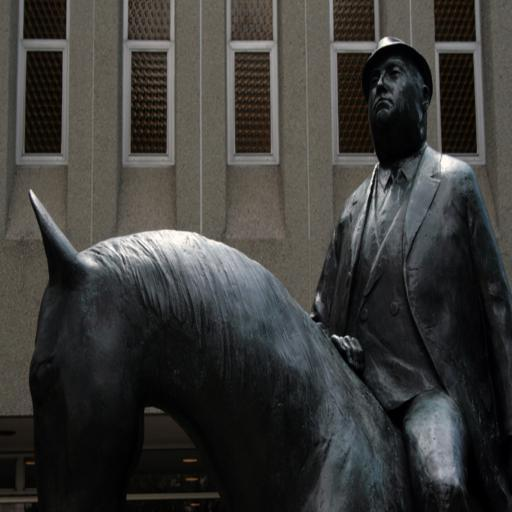horse: (28, 188, 422, 512)
